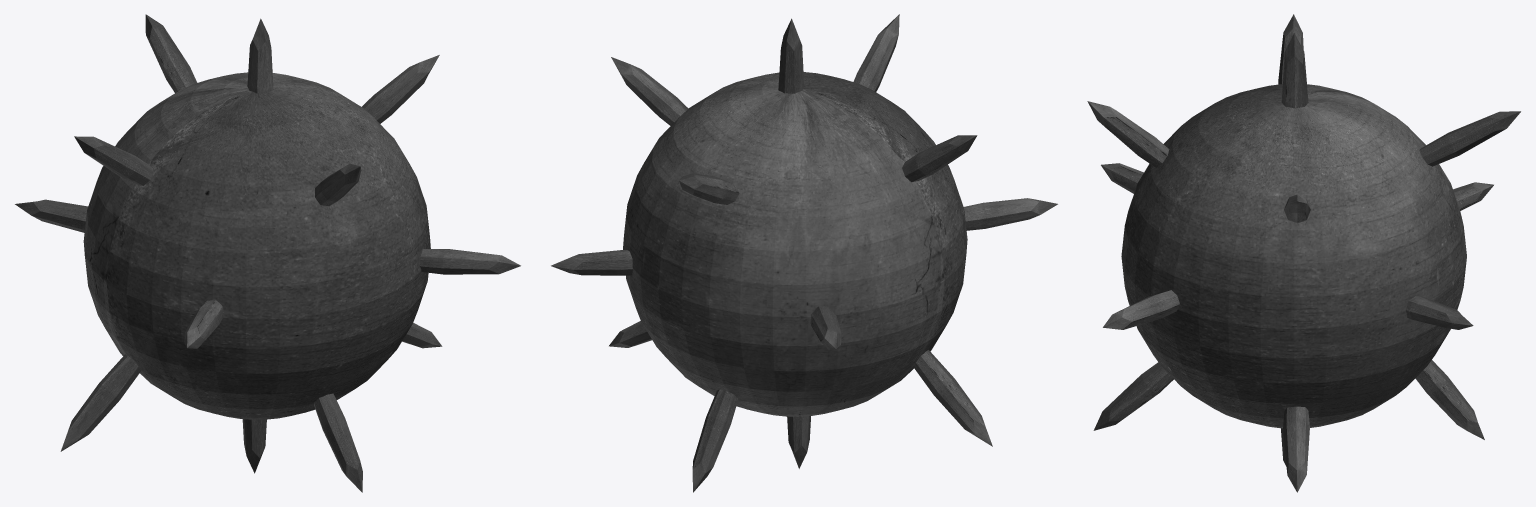
The model's file is blender_mine.glb.
The picture shows the model from 3 angles, left to right: view 1: azimuth 30°, elevation 25°; view 2: azimuth 150°, elevation 25°; view 3: azimuth 270°, elevation 25°; orthographic projection.
Parts seen in each view (by area): view 1: Sphere; view 2: Sphere; view 3: Sphere.
Boxes of the visible parts, x1,y1,x2,y2 form: Sphere: (15, 14, 520, 492); Sphere: (551, 14, 1057, 492); Sphere: (1087, 14, 1520, 492).
Size of the model in its own units: 2.55 by 2.87 by 2.51.
Materials: 1 (1 with a texture image).
